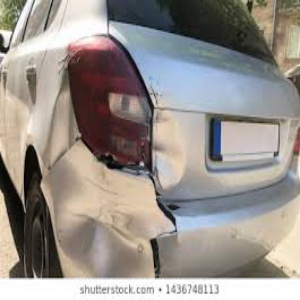bumper: (43, 178, 182, 277)
